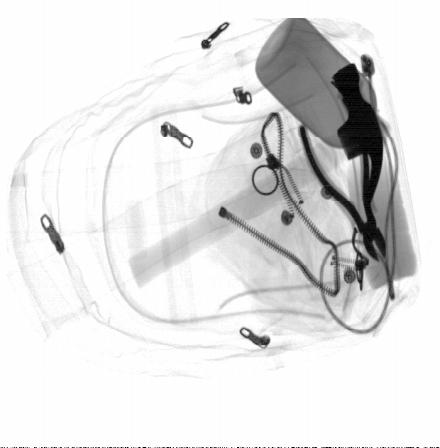Hammer: (128, 62, 383, 289)
Pliers: (296, 101, 385, 261)
